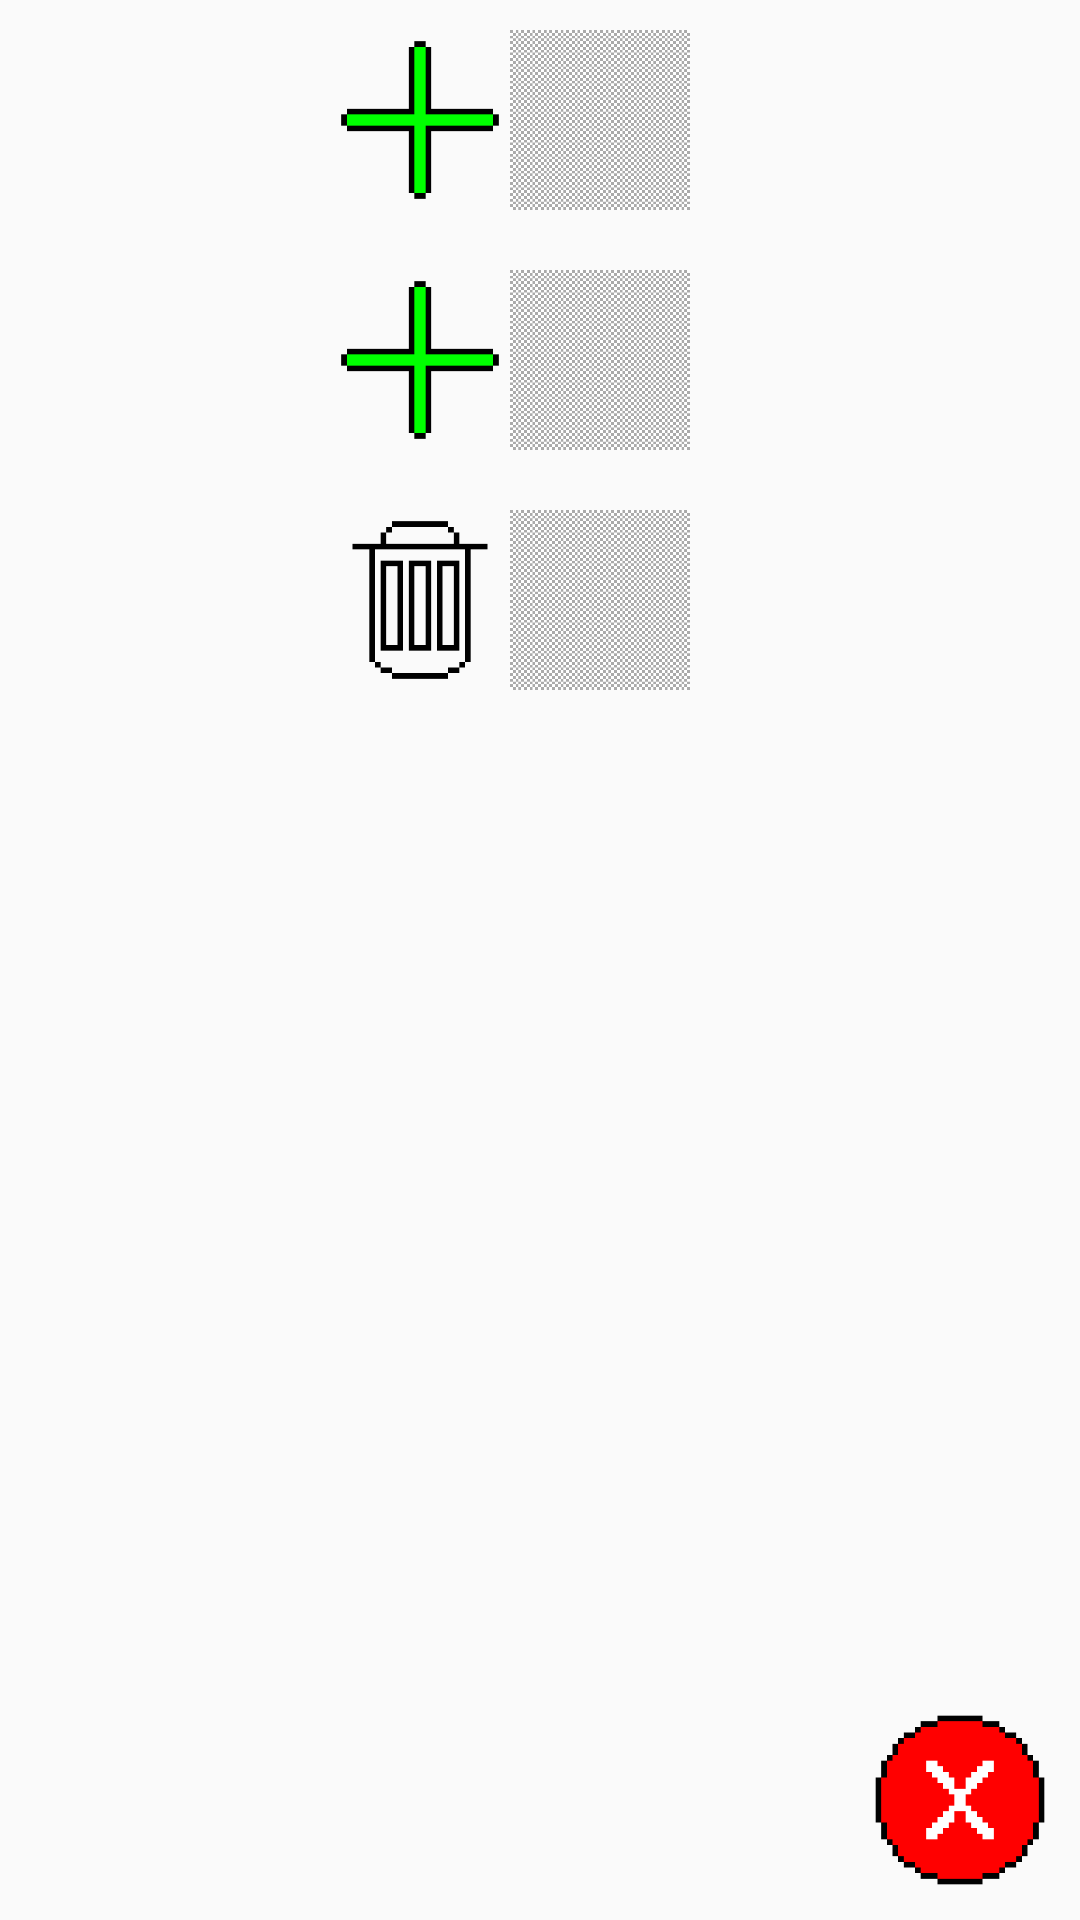

Icons on this 1080x1920 Android screen, each with the point to tap as (x=x, y=y):
close: (x=960, y=1800)
plusgreen: (x=420, y=120), (x=420, y=360)
trash open: (x=420, y=600)
